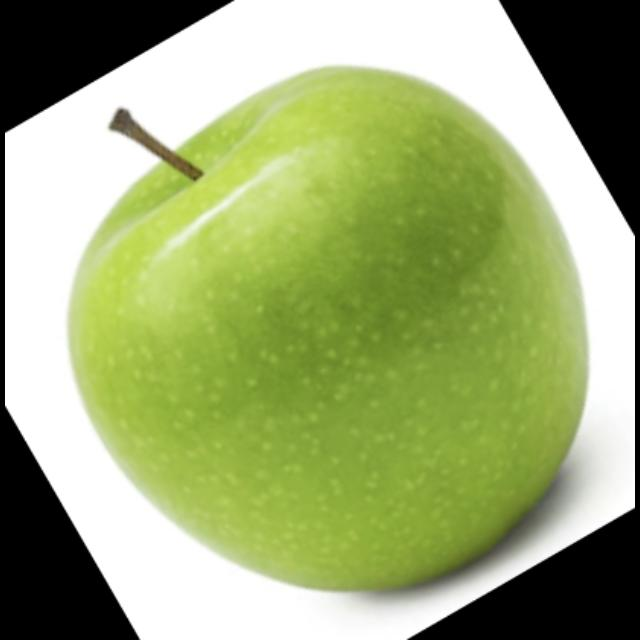Apel Segar: (71, 70, 587, 590)
